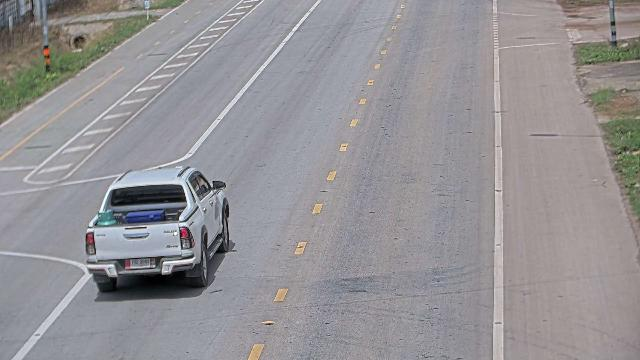pickup-truck: (84, 165, 230, 292)
